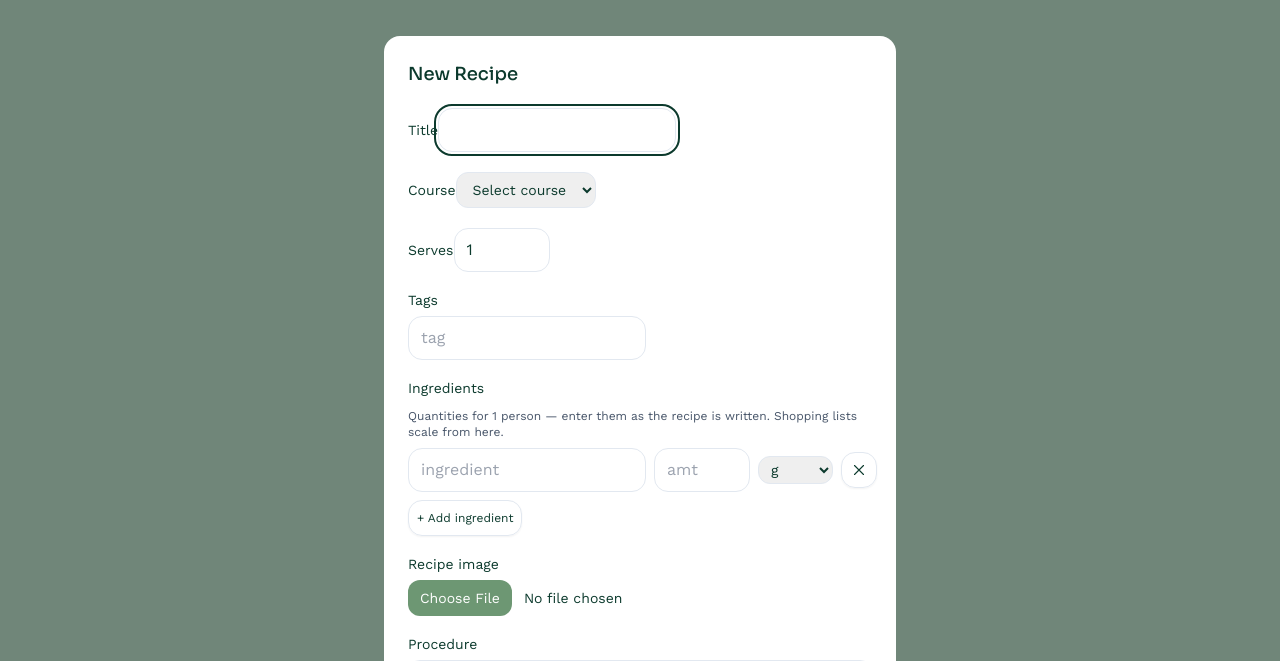
Scenario: tells the cook which head-count the quantities are for
Replace the text in the number field labelled "Serves" with "4": [502, 250] box [454,228,550,272]
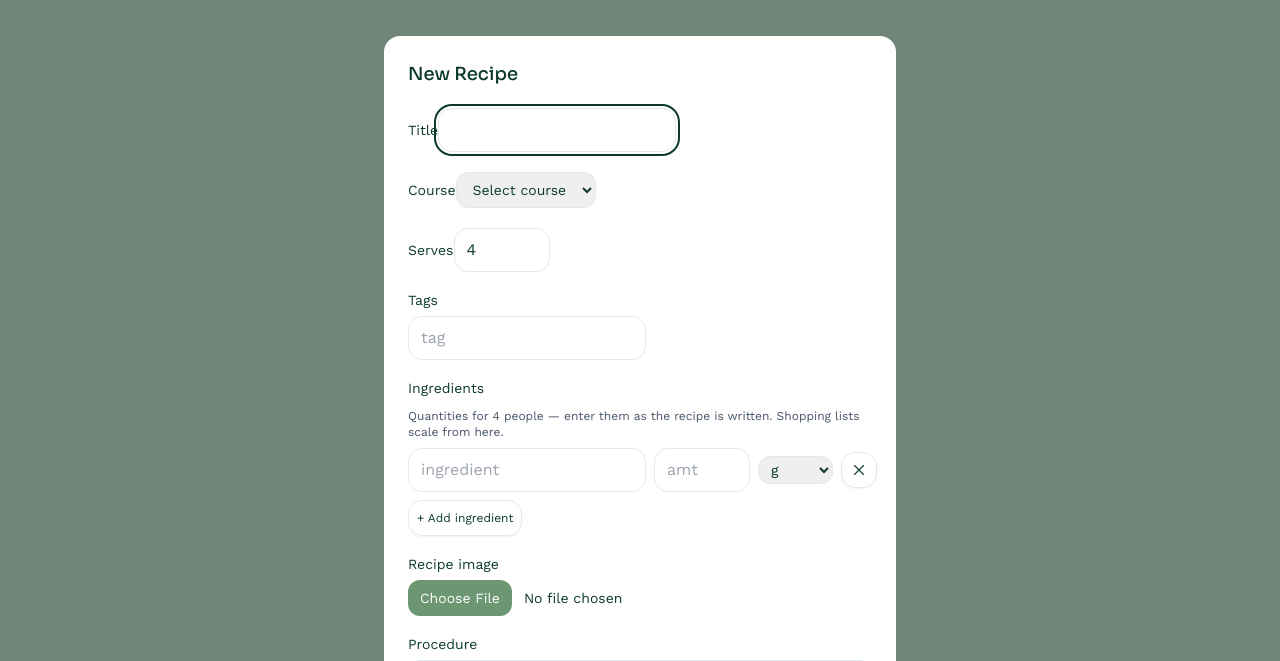
expect the text "Quantities for 4 people" is shown: met, box [408,408,872,440]
